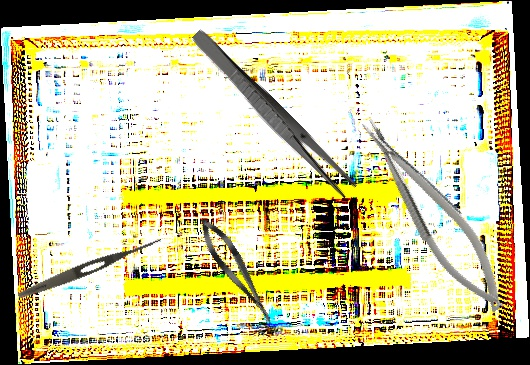Dressing Forceps: (186, 27, 359, 200), (16, 232, 163, 303)
Micro Scissor: (192, 212, 282, 332)
Needle Holder: (352, 104, 517, 324)
